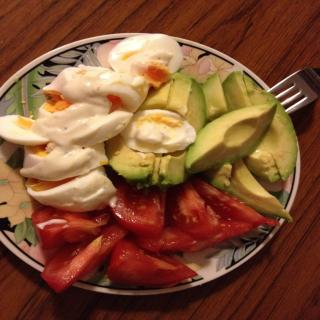tomato: (28, 178, 280, 296)
